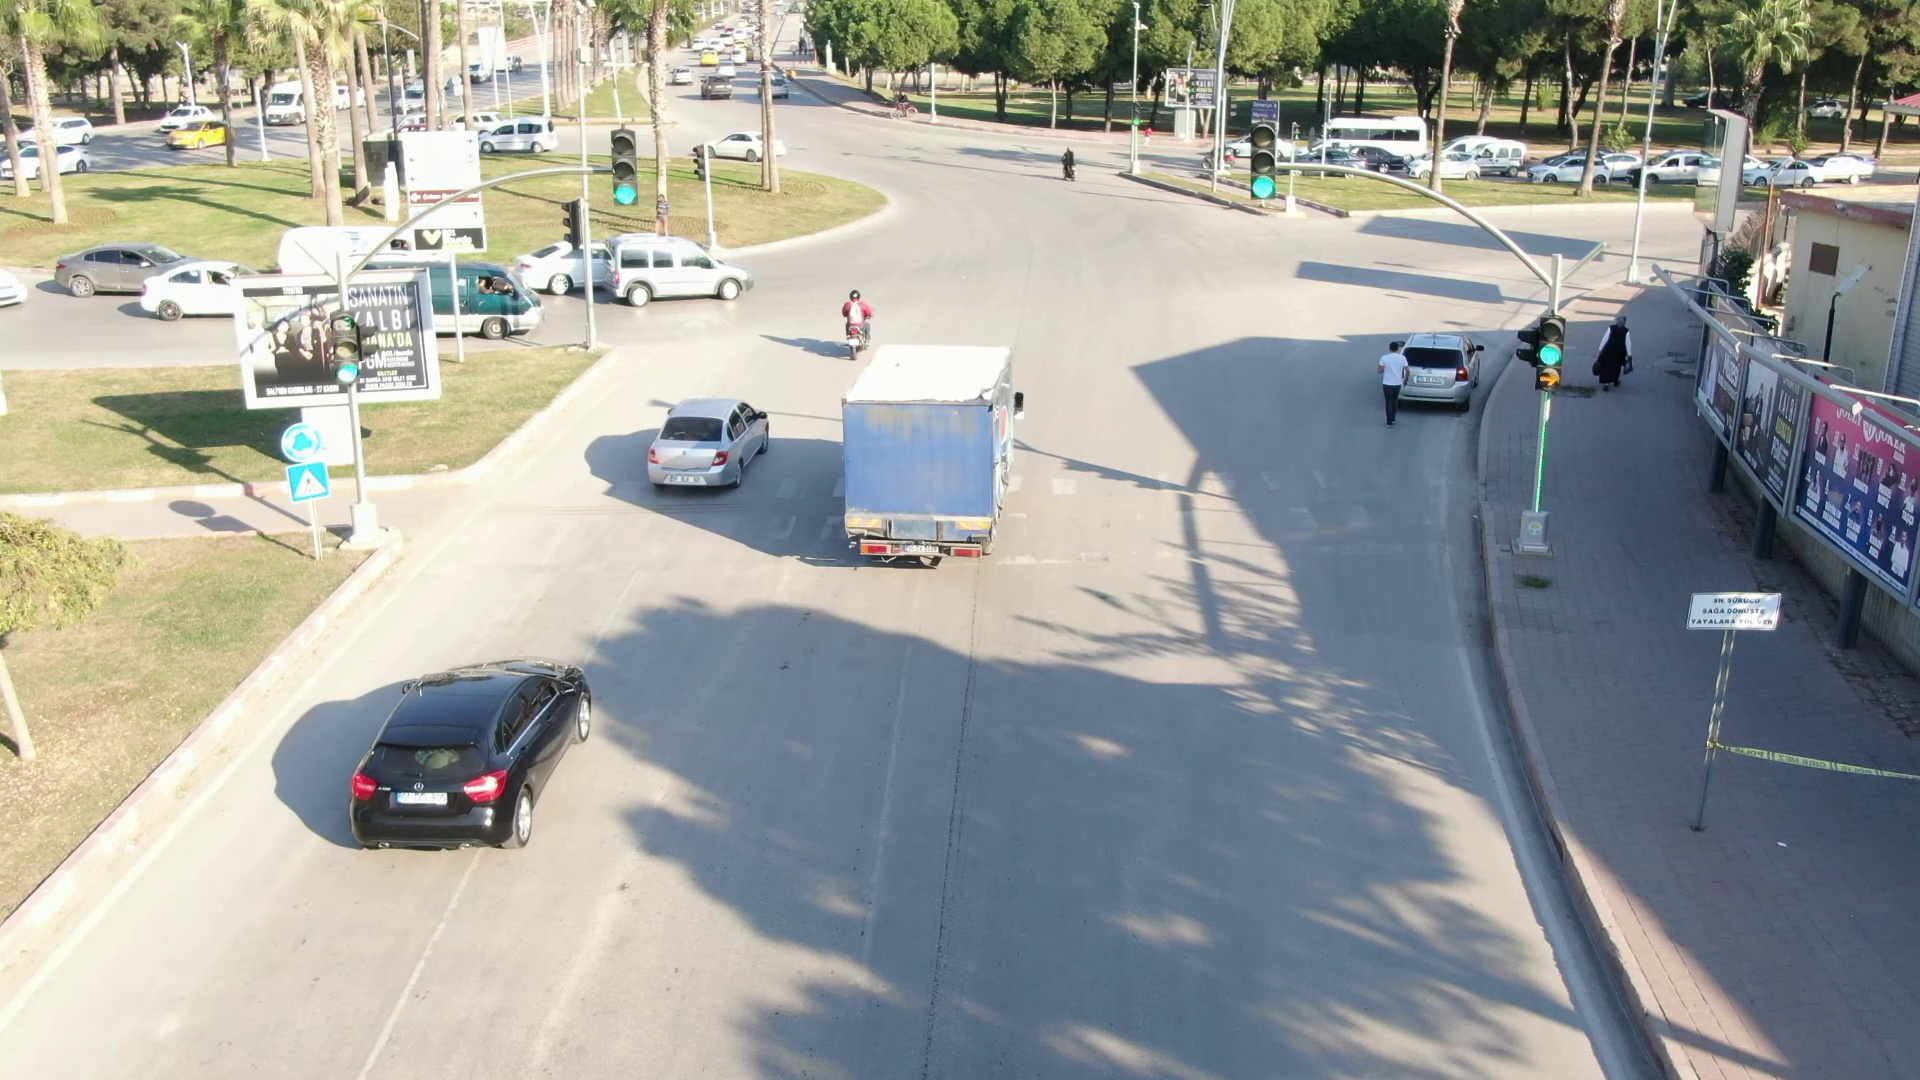car: (345, 630, 606, 878), (636, 384, 788, 500), (597, 226, 762, 310), (45, 226, 188, 306), (699, 123, 795, 176), (475, 110, 565, 156), (1527, 152, 1615, 188)
person: (1587, 304, 1639, 398), (1374, 332, 1411, 430)
